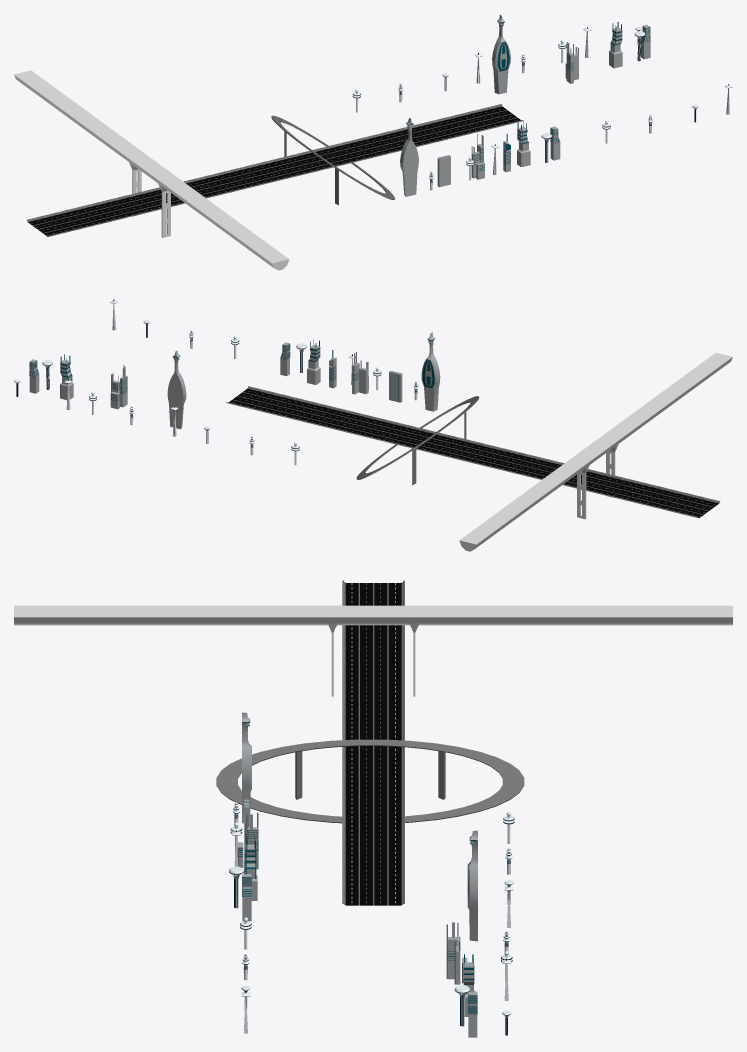
Rendered from Bynocs scene.fbx.
The picture shows the model from 3 angles, top to bottom: view 1: azimuth 30°, elevation 25°; view 2: azimuth 150°, elevation 25°; view 3: azimuth 270°, elevation 25°; orthographic projection. The views are drawn at different scales.
Visible parts, largest first — view 1: Plane.003, Cube.007, Cylinder.002, Cube.018, Cube.012, Cube.021, Cube.017, Cube.019, Cube.013; view 2: Plane.003, Cube.007, Cylinder.002, Cube.012, Cube.018, Cube.019, Cube.013, Cube.017, Cube.021, Cube.014; view 3: Plane.003, Cube.007, Cylinder.002, Cube.018, Cube.012, Cube.019.
Boxes of the visible parts, bbox=[...] form: Plane.003: bbox=[27, 104, 523, 236]; Cube.007: bbox=[14, 70, 289, 270]; Cylinder.002: bbox=[271, 115, 394, 205]; Cube.018: bbox=[492, 14, 510, 94]; Cube.012: bbox=[400, 118, 418, 196]; Cube.021: bbox=[609, 21, 622, 68]; Cube.017: bbox=[517, 121, 530, 166]; Cube.019: bbox=[565, 41, 578, 83]; Cube.013: bbox=[471, 133, 484, 179]; Plane.003: bbox=[226, 386, 720, 518]; Cube.007: bbox=[459, 352, 732, 551]; Cylinder.002: bbox=[356, 396, 479, 485]; Cube.012: bbox=[421, 332, 440, 411]; Cube.018: bbox=[167, 350, 186, 429]; Cube.019: bbox=[110, 365, 127, 409]; Cube.013: bbox=[352, 352, 368, 394]; Cube.017: bbox=[307, 339, 320, 384]; Cube.021: bbox=[60, 354, 73, 399]; Cube.014: bbox=[389, 371, 402, 402]; Plane.003: bbox=[342, 580, 404, 905]; Cube.007: bbox=[14, 605, 732, 696]; Cylinder.002: bbox=[216, 739, 524, 823]; Cube.018: bbox=[467, 830, 477, 941]; Cube.012: bbox=[242, 712, 251, 823]; Cube.019: bbox=[446, 922, 467, 984].
Bounding box in the file's own units: 92908 × 12276 × 63769.
